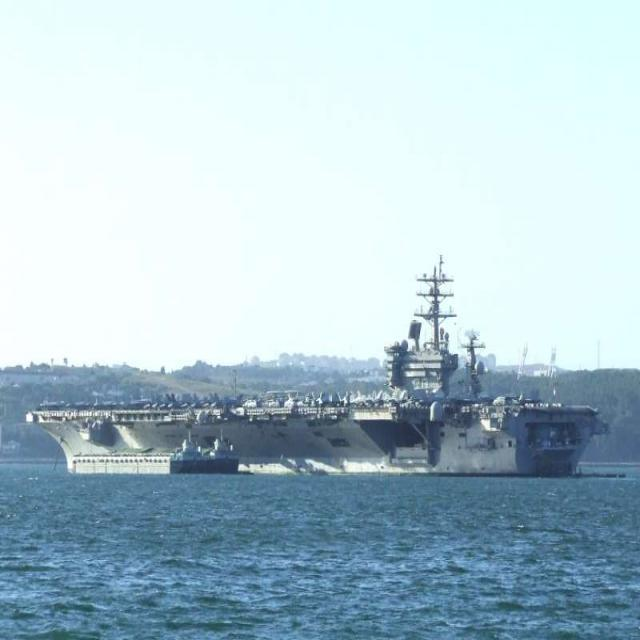Portanaves: (26, 252, 615, 481)
